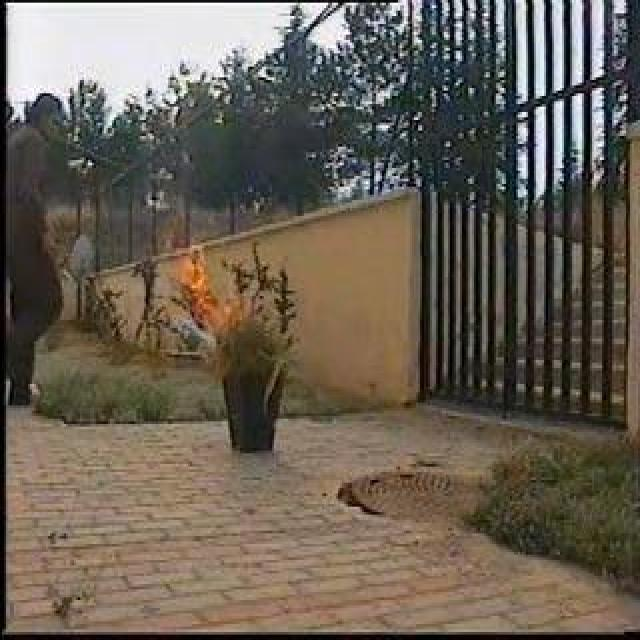fire: (176, 250, 228, 335)
